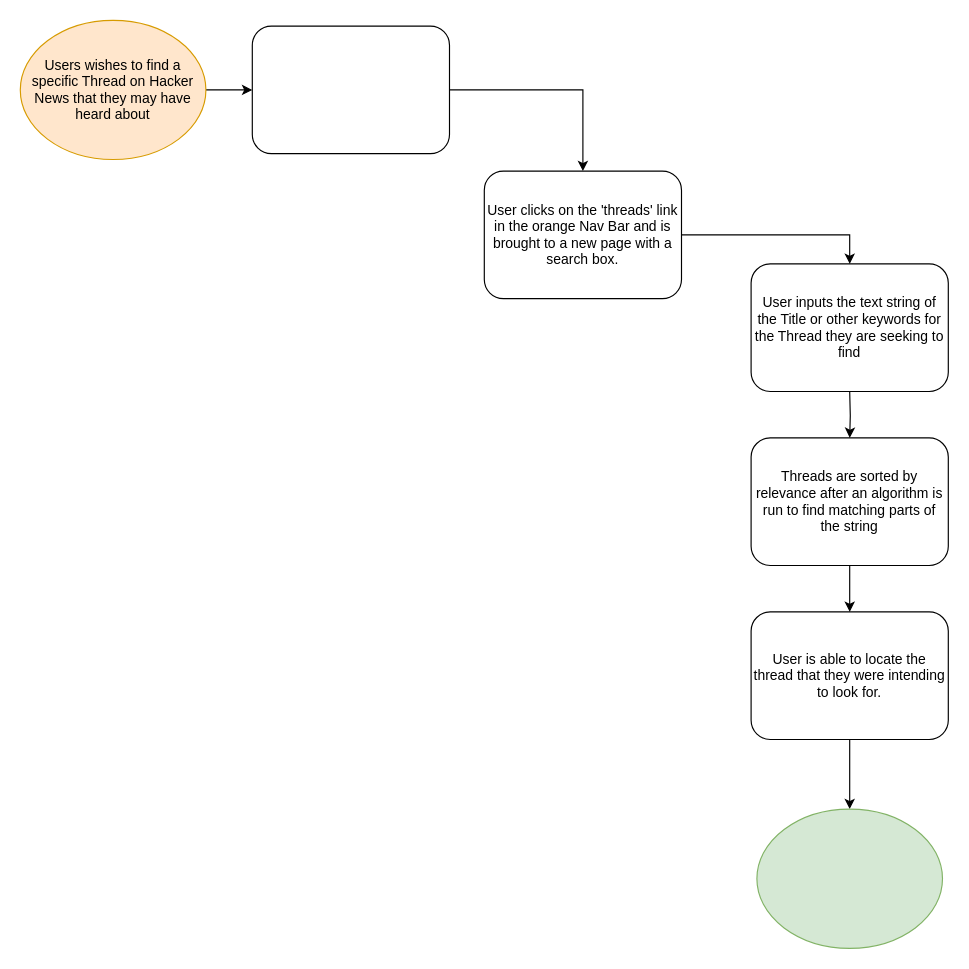
This 969x969 diagram has some shape labels left out. The shapes that lost their labels are listed below. From the top down, each one's centre as x and y in pixels, then its label:
[350,89]: User directs to the homepage at hackernews.ycombinator.com
[849,878]: User can read or UpVote the Thread, or continue using the site
